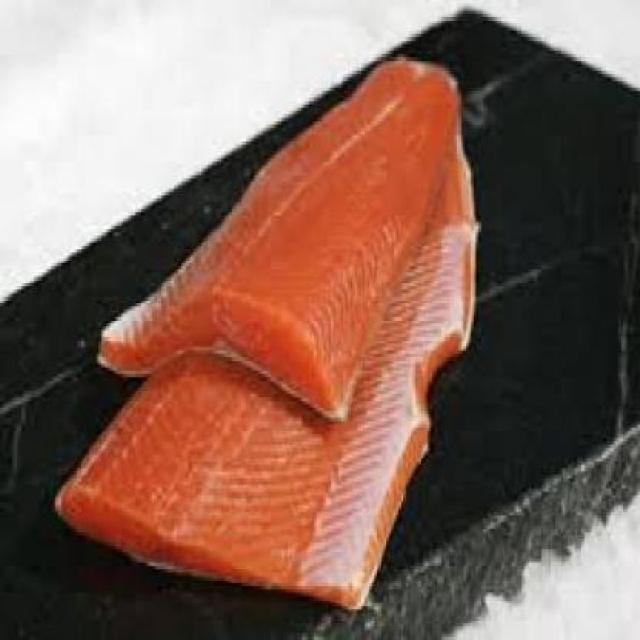salmon: (51, 65, 519, 617), (84, 48, 514, 422)
